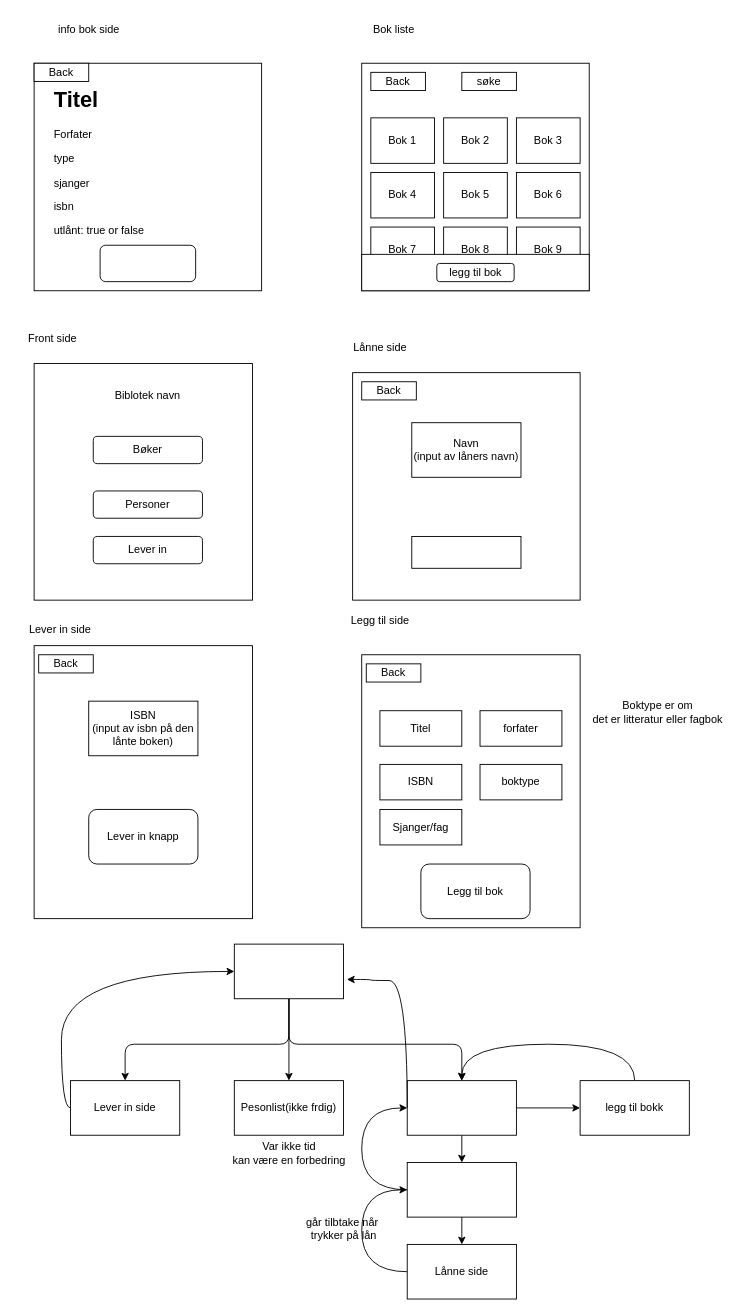
Some shapes in this 750 by 1315 pixel diagram are drawn without their labels. Each missing label, with the centre of its shape:
"Bok side info til den valgte boken" goes at point (461, 1189).
"Bok side liste" goes at point (461, 1107).
"Hoved side" goes at point (288, 971).
"Lån" goes at point (147, 263).
"Lånne knapp" goes at point (466, 552).
